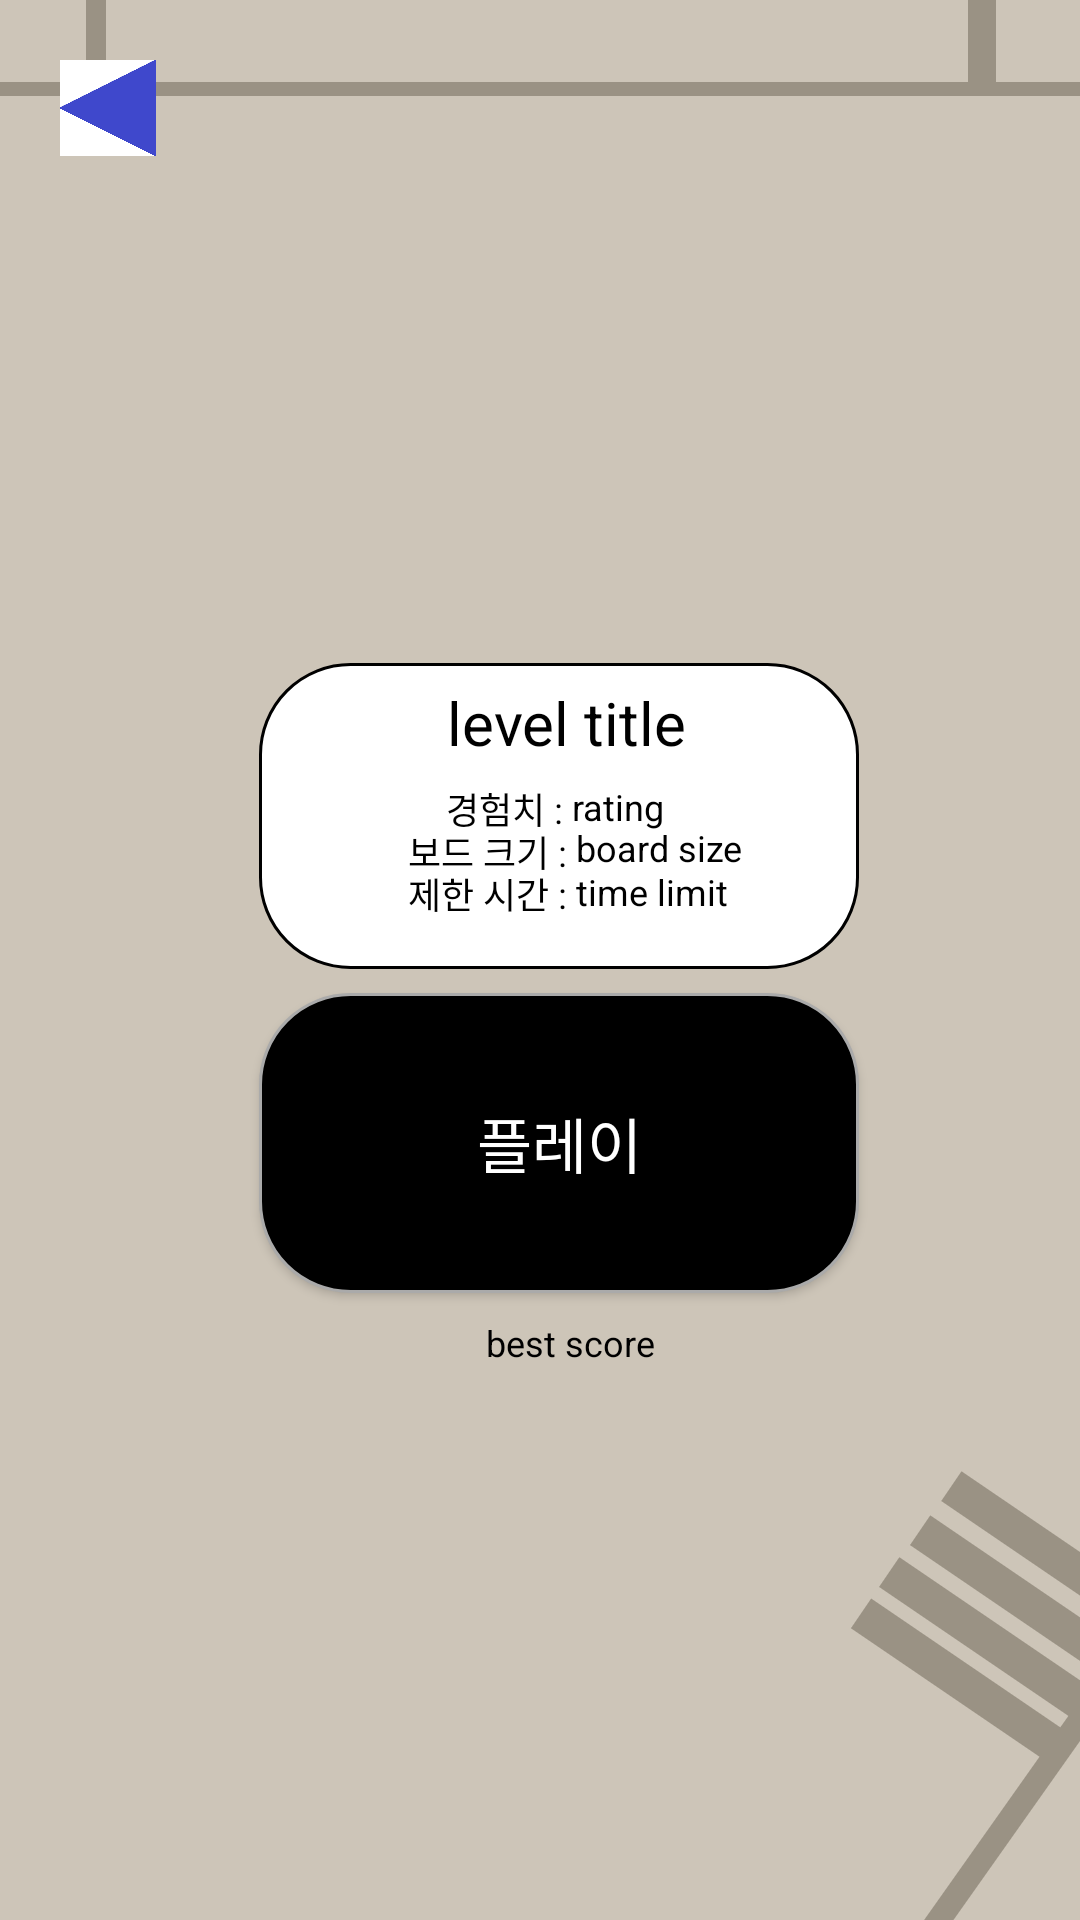

Screen size 1080px x 1920px. Icon name, then its box in pixels as region(x1, y1, x2, y2):
general back arrow: region(60, 60, 156, 156)
